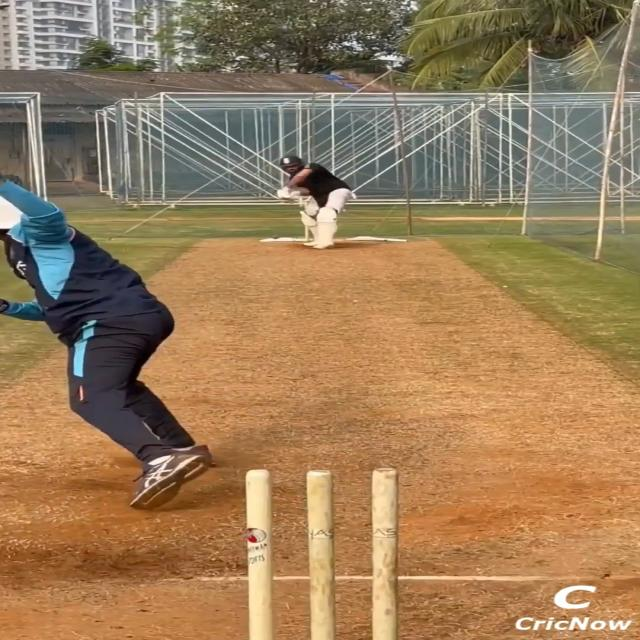stump: (242, 467, 403, 640)
